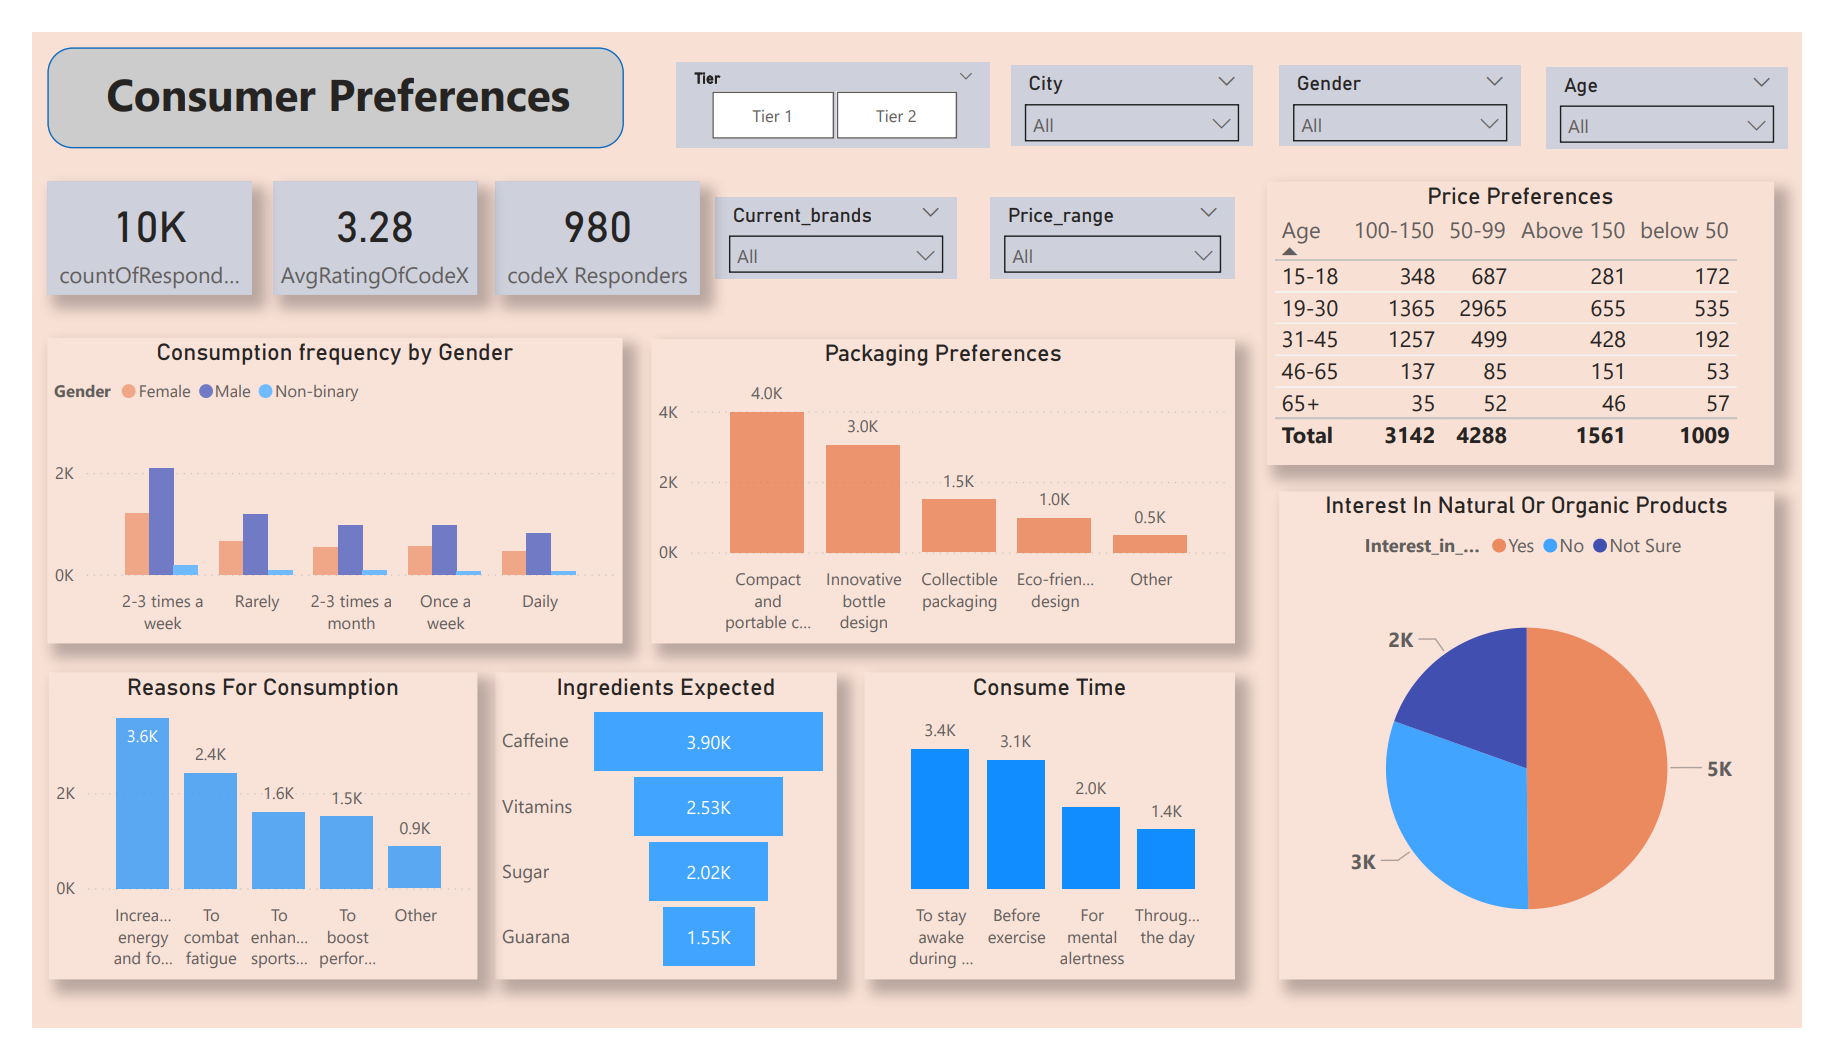

The dashboard page shown, as its layout file describes it:
{"tool":"powerbi","page":{"name":"Consumer Preferences","canvas":[1280,720],"ordinal":1},"visuals":[{"type":"card","fields":{"Values":["Key_measures.AvgRatingOfCodeX"]},"box":[174.1,107.8,147.9,82.2],"z":0,"group":"g2"},{"type":"slicer","fields":{"Values":["fact_survey_responses.Current_brands"]},"box":[494.4,118.9,174.7,59.5],"z":0},{"type":"group","id":"g1","title":"Group 1","box":[11.2,11.2,416.8,73.2],"z":1000},{"type":"pieChart","title":"Interest In Natural Or Organic Products","fields":{"Category":["fact_survey_responses.Interest_in_natural_or_organic"],"Y":["Key_measures.countOfResponders"]},"box":[901.7,331.7,358.3,353.3],"z":2000},{"type":"slicer","fields":{"Values":["dim_repondents.Age"]},"box":[1095.1,25.4,174.8,58.3],"z":3000},{"type":"card","fields":{"Values":["Key_measures.countOfResponders"]},"box":[11.2,107.8,147.9,82.2],"z":3000,"group":"g2"},{"type":"slicer","fields":{"Values":["dim_cities.City"]},"box":[708.2,23.9,174.8,58.3],"z":4000},{"type":"card","fields":{"Values":["Key_measures.codeX Responders"]},"box":[335.4,107.8,147.9,82.2],"z":4000,"group":"g2"},{"type":"slicer","fields":{"Values":["dim_repondents.Gender"]},"box":[902.4,23.9,174.8,58.3],"z":5000},{"type":"slicer","fields":{"Values":["dim_cities.Tier"]},"box":[466.1,22.4,227.1,61.3],"z":6000},{"type":"group","id":"g2","title":"Group 2","box":[11.2,107.8,472.1,81.8],"z":7000},{"type":"clusteredColumnChart","title":"Consumption frequency by Gender ","fields":{"Y":["Key_measures.countOfResponders"],"Category":["fact_survey_responses.Consume_frequency"],"Series":["dim_repondents.Gender"]},"box":[11.2,221.2,416.3,221.2],"z":8000},{"type":"shape","box":[11.2,11.2,416.8,73.2],"z":9000,"group":"g1"},{"type":"slicer","fields":{"Values":["fact_survey_responses.Price_range"]},"box":[693.2,118.9,176.6,59.5],"z":9000},{"type":"textbox","box":[25.9,17.6,391.7,58.3],"z":10000,"group":"g1"},{"type":"tableEx","title":"Price Preferences","fields":{"Values":["dim_repondents.Age","Key_measures.100-150","Key_measures.50-99","Key_measures.Above 150","Key_measures.below 50"]},"box":[893.3,108.3,366.7,205],"z":10000},{"type":"clusteredColumnChart","title":"Reasons For Consumption","fields":{"Category":["fact_survey_responses.Consume_reason"],"Y":["Key_measures.countOfResponders"]},"box":[11.7,463.3,310,221.7],"z":11000},{"type":"clusteredColumnChart","title":"Packaging Preferences","fields":{"Y":["Key_measures.countOfResponders"],"Category":["fact_survey_responses.Packaging_preference"]},"box":[448.3,221.7,421.7,220],"z":12000},{"type":"funnel","title":"Ingredients Expected","fields":{"Category":["fact_survey_responses.Ingredients_expected"],"Y":["CountNonNull(dim_repondents.Respondent_ID)"]},"box":[335,463.3,246.7,221.7],"z":13000},{"type":"clusteredColumnChart","title":" Consume Time","fields":{"Category":["fact_survey_responses.Consume_time"],"Y":["Key_measures.countOfResponders"]},"box":[601.7,463.3,268.3,221.7],"z":14000}]}

Visuals, with their boxes in screenshot pixels (x1, y1, x2, y2), scaled from the page's 1280x720 canvas onto the 1833x1055 screenshot:
card - Key_measures.AvgRatingOfCodeX: rect(249, 158, 461, 278)
slicer - fact_survey_responses.Current_brands: rect(708, 174, 958, 261)
"Group 1" group: rect(16, 16, 613, 124)
"Interest In Natural Or Organic Products" pieChart: rect(1291, 486, 1804, 1004)
slicer - dim_repondents.Age: rect(1568, 37, 1819, 123)
card - Key_measures.countOfResponders: rect(16, 158, 228, 278)
slicer - dim_cities.City: rect(1014, 35, 1264, 120)
card - Key_measures.codeX Responders: rect(480, 158, 692, 278)
slicer - dim_repondents.Gender: rect(1292, 35, 1543, 120)
slicer - dim_cities.Tier: rect(667, 33, 993, 123)
"Group 2" group: rect(16, 158, 692, 278)
"Consumption frequency by Gender " clusteredColumnChart: rect(16, 324, 612, 648)
shape: rect(16, 16, 613, 124)
slicer - fact_survey_responses.Price_range: rect(993, 174, 1246, 261)
textbox: rect(37, 26, 598, 111)
"Price Preferences" tableEx: rect(1279, 159, 1804, 459)
"Reasons For Consumption" clusteredColumnChart: rect(17, 679, 461, 1004)
"Packaging Preferences" clusteredColumnChart: rect(642, 325, 1246, 647)
"Ingredients Expected" funnel: rect(480, 679, 833, 1004)
" Consume Time" clusteredColumnChart: rect(862, 679, 1246, 1004)
